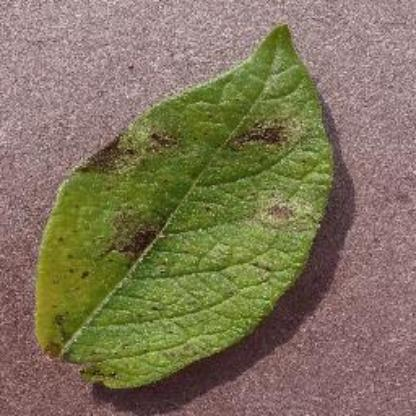Late-Blight: (20, 18, 356, 396)
